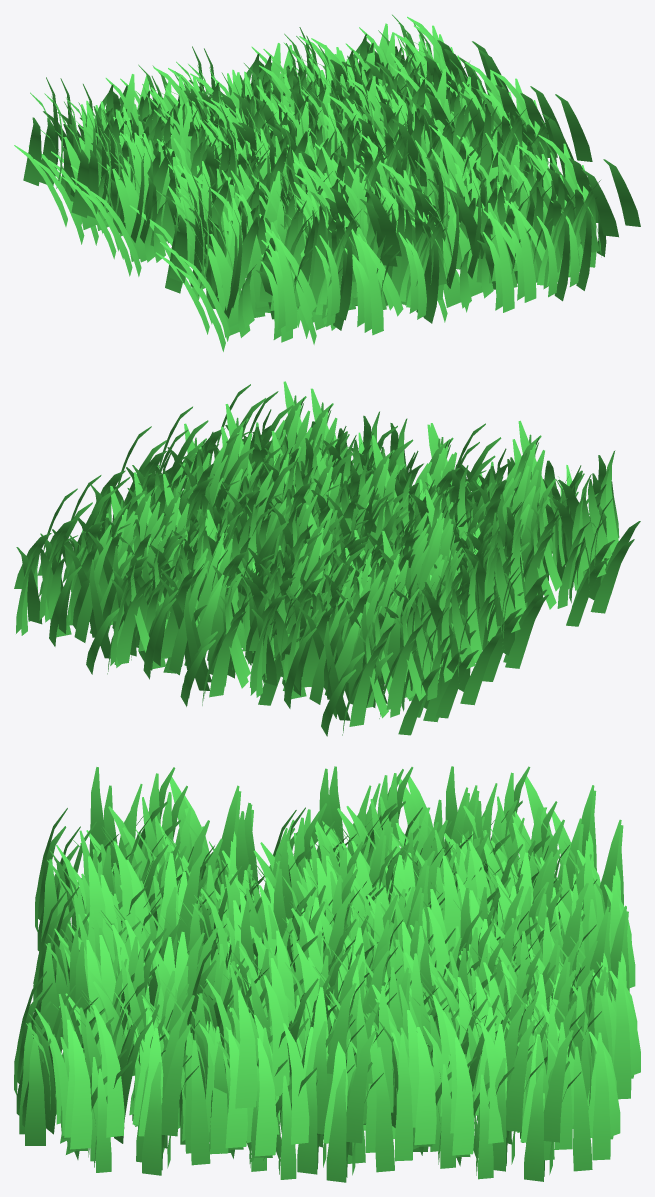
Rendered from grassPatch.fbx.
The picture shows the model from 3 angles, top to bottom: view 1: azimuth 30°, elevation 25°; view 2: azimuth 150°, elevation 25°; view 3: azimuth 270°, elevation 25°; orthographic projection. The views are drawn at different scales.
Visible parts, largest first — view 1: Plane.026; view 2: Plane.026; view 3: Plane.026.
Boxes of the visible parts, left/top/right/bottom form: Plane.026: left=14, top=14, right=640, bottom=351; Plane.026: left=14, top=381, right=640, bottom=736; Plane.026: left=14, top=766, right=640, bottom=1182.
Size of the model in its own units: 1254 by 433 by 1141.
